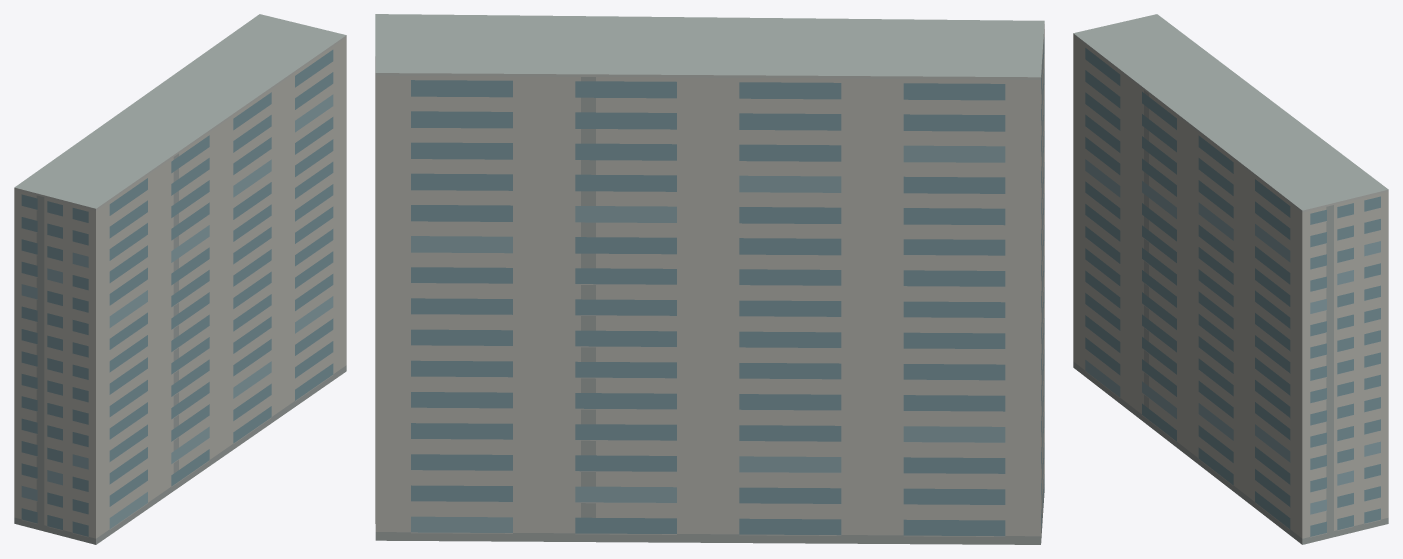
Rendered from residential-eaa150fe-8b60-4ca5-b607-d5c0fd6e7679.glb.
3 views of the same model, side by side, from view 1: azimuth 30°, elevation 25°; view 2: azimuth 150°, elevation 25°; view 3: azimuth 270°, elevation 25° (orthographic). The views are drawn at different scales.
Visible parts, largest first — view 1: residential-eaa150fe-8b60-4ca5-b607-d5c0fd6e7679.tmp; view 2: residential-eaa150fe-8b60-4ca5-b607-d5c0fd6e7679.tmp; view 3: residential-eaa150fe-8b60-4ca5-b607-d5c0fd6e7679.tmp.
Boxes of the visible parts, x1,y1,x2,y2 form: residential-eaa150fe-8b60-4ca5-b607-d5c0fd6e7679.tmp: (14,14,346,544); residential-eaa150fe-8b60-4ca5-b607-d5c0fd6e7679.tmp: (375,14,1044,544); residential-eaa150fe-8b60-4ca5-b607-d5c0fd6e7679.tmp: (1073,14,1388,544).
Size of the model in its own units: 53.01 by 42 by 35.94.
